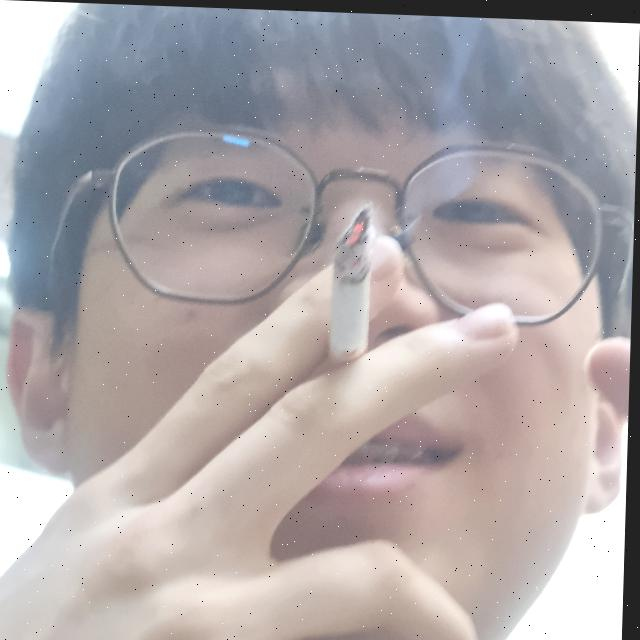cigarette: (330, 199, 373, 359)
